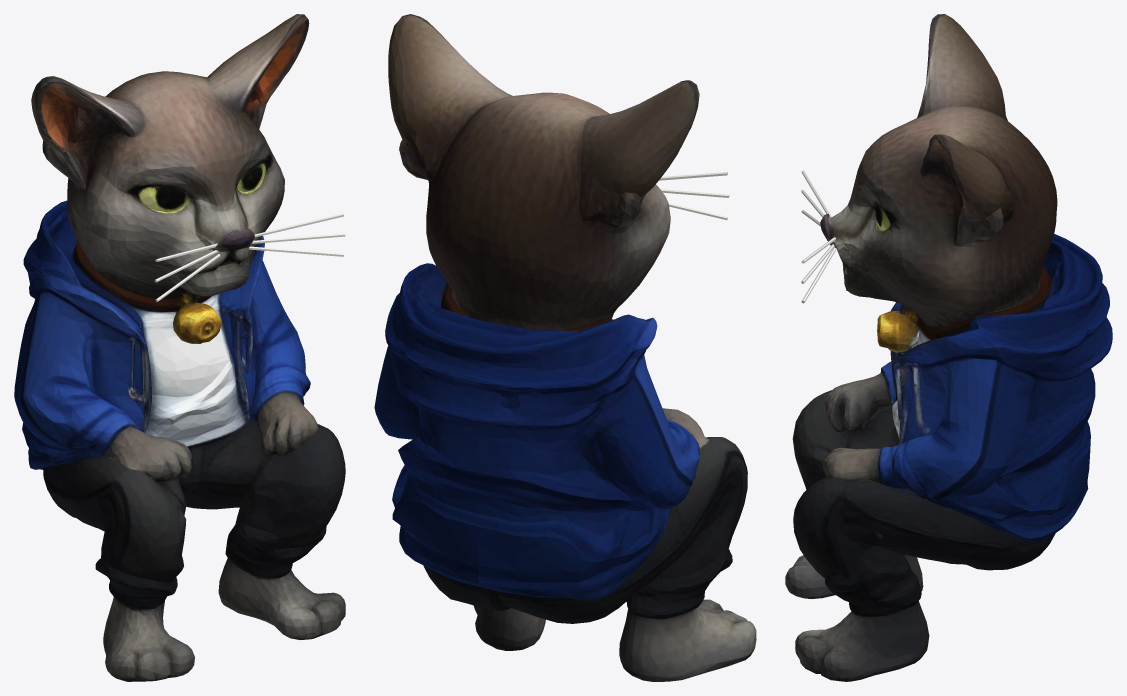
File: pureum.glb
3 views of the same model, side by side, from view 1: azimuth 30°, elevation 25°; view 2: azimuth 150°, elevation 25°; view 3: azimuth 270°, elevation 25° (orthographic). The views are drawn at different scales.
Visible parts, largest first — view 1: char_pureum_model; view 2: char_pureum_model; view 3: char_pureum_model.
Boxes of the visible parts, x1,y1,x2,y2 form: char_pureum_model: (14,14,345,681); char_pureum_model: (374,14,756,681); char_pureum_model: (785,14,1112,681).
Bounding box in the file's own units: 0.642 × 1.27 × 0.6771.
Materials: 2 (1 with a texture image).
